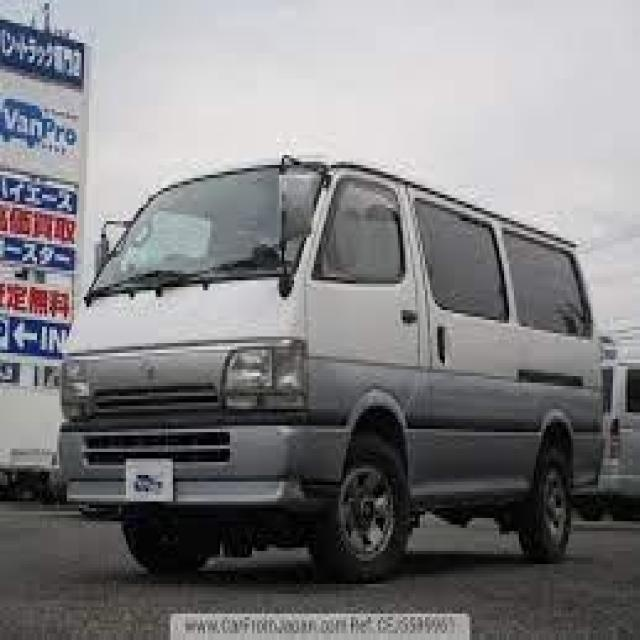Van: (52, 149, 608, 564)
